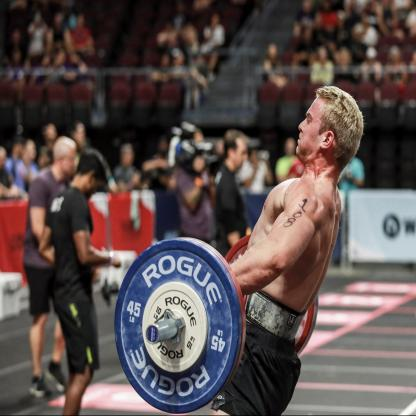barbell: (115, 239, 241, 415)
